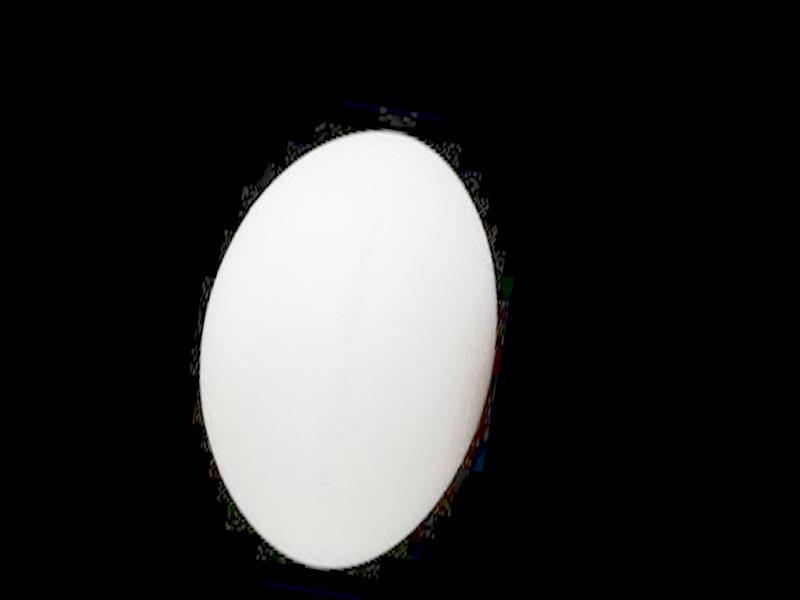Eggs: (170, 105, 528, 588)
